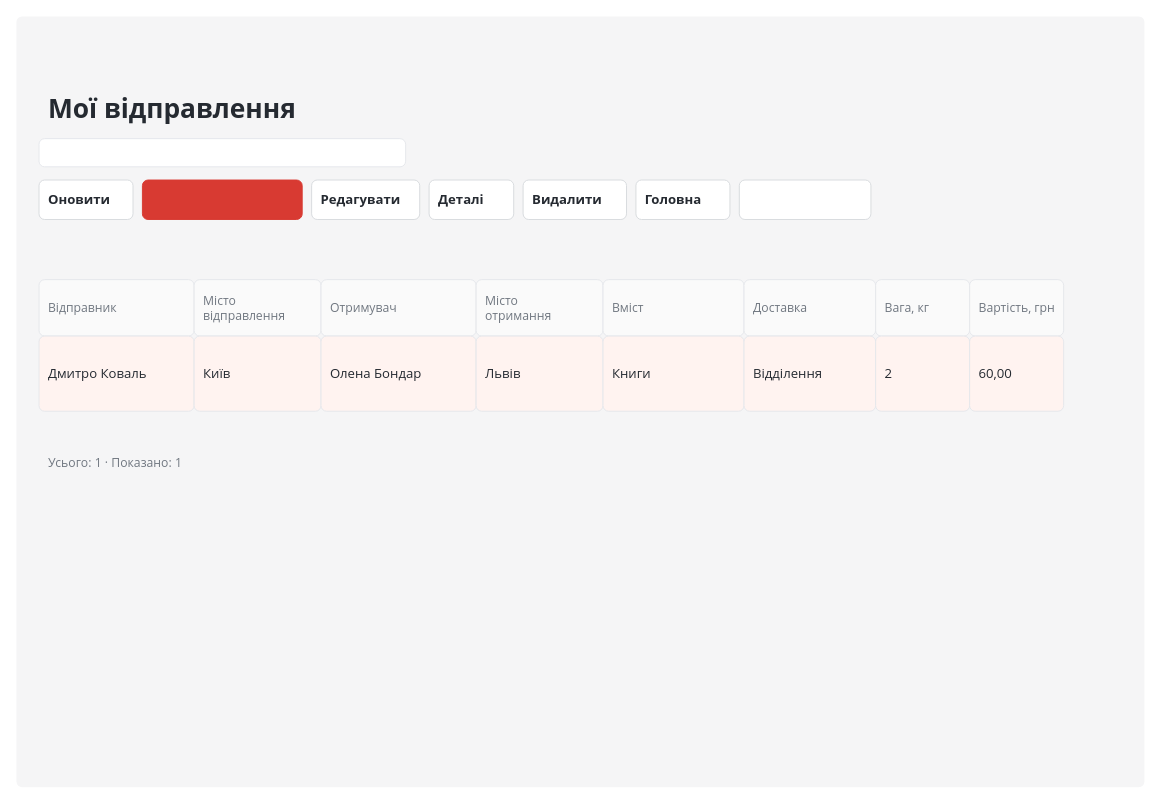
This 1160x803 diagram has some shape labels left out. Each missing label, with the centre of its shape:
"Нове відправлення" belongs at pixel 221 199.
"Пошук за ім’ям, містом або вмістом" belongs at pixel 222 152.
"Про програму" belongs at pixel 804 199.
